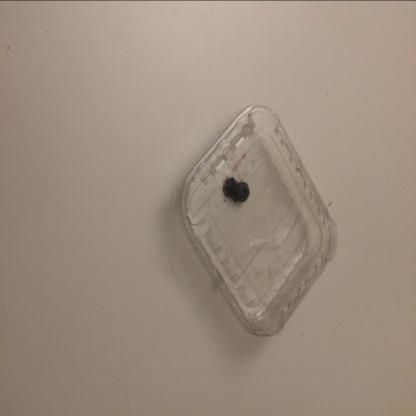Other litter: (223, 177, 250, 202)
Plastic container: (164, 104, 337, 336)
